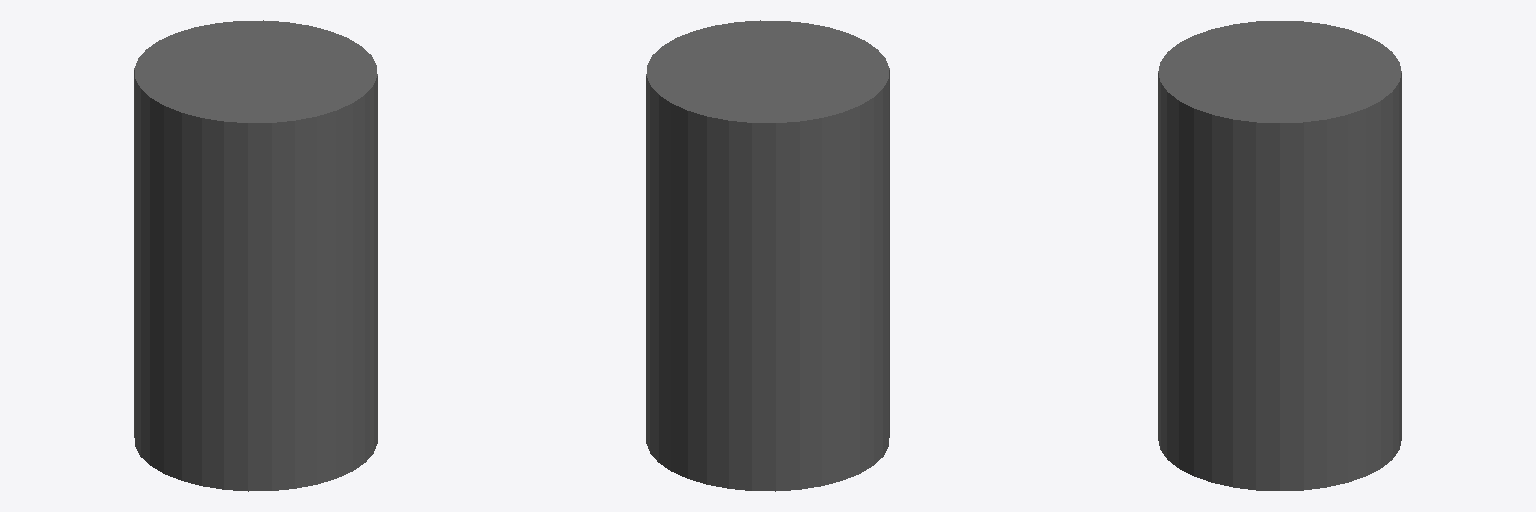
robot.urdf — avoid_clutter_cylinder:
<?xml version="1.0"?>
<robot name="avoid_clutter_cylinder">
  <link name="cylinder">
    <inertial><origin xyz="0 0 0.25"/><mass value="100000"/><inertia ixx="1" ixy="0" ixz="0" iyy="1" iyz="0" izz="1"/></inertial>
    <visual><origin xyz="0 0 0.25"/><geometry><cylinder radius="0.15" length="0.50"/></geometry><material name="gray"><color rgba="0.45 0.45 0.45 1"/></material></visual>
    <collision><origin xyz="0 0 0.25"/><geometry><cylinder radius="0.15" length="0.50"/></geometry></collision>
  </link>
</robot>

--- What the picture shows (computed from the rendered views, not written in the file) ---
Views: 3 orthographic renders of the robot side by side, from view 1: azimuth 30°, elevation 25°; view 2: azimuth 150°, elevation 25°; view 3: azimuth 270°, elevation 25°.
Model avoid_clutter_cylinder with 1 links and 0 joints (none), rooted at cylinder, posed all joints at 0.
Links seen in each view (by area): view 1: cylinder; view 2: cylinder; view 3: cylinder.
Boxes of the visible links, <box> form: cylinder: <box>134,20,377,491</box>; cylinder: <box>646,20,889,491</box>; cylinder: <box>1158,21,1401,490</box>.
Size in the robot's own frame: 0.3 by 0.3 by 0.5 metres.
Geometry: primitives only (box / cylinder / sphere), no mesh files.
